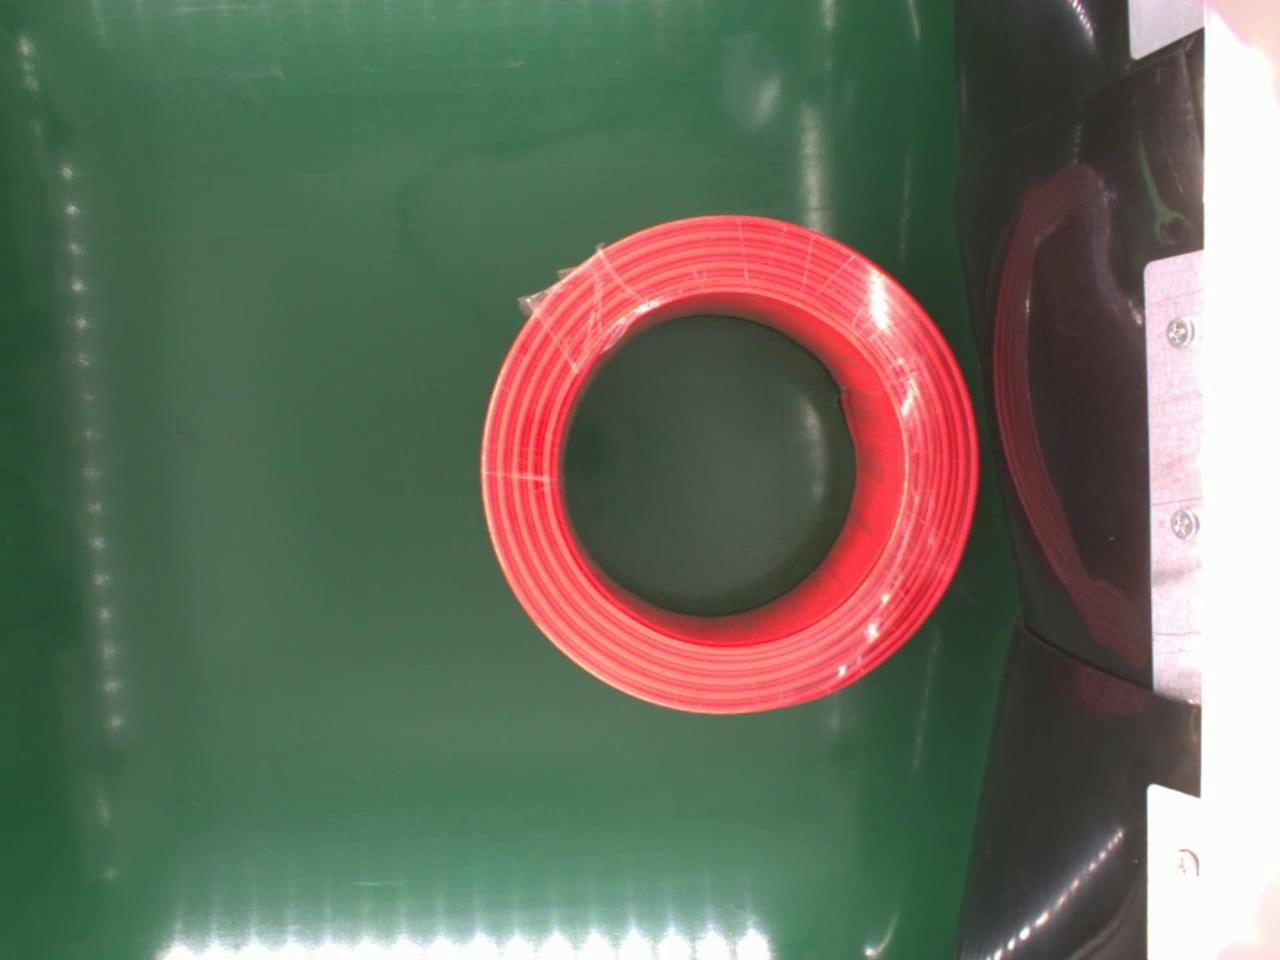red: (468, 203, 989, 722)
